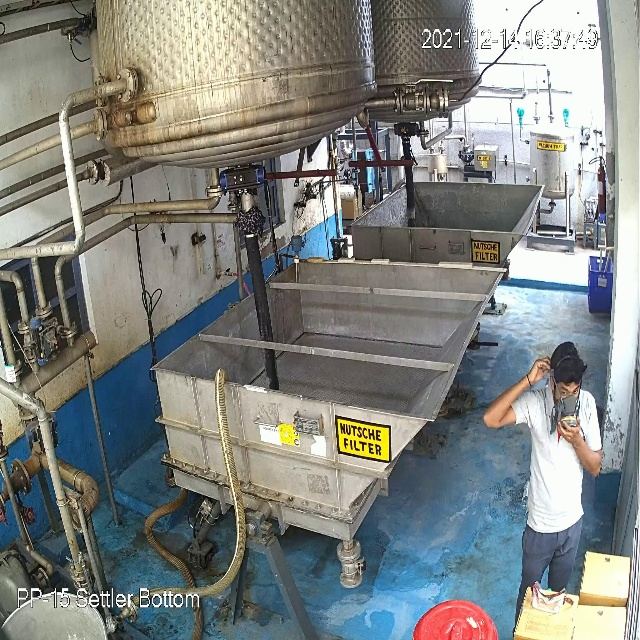Mascara: (553, 392, 583, 427)
Sin_gafas: (552, 379, 584, 402)
Sin_guantes: (552, 417, 605, 480)
